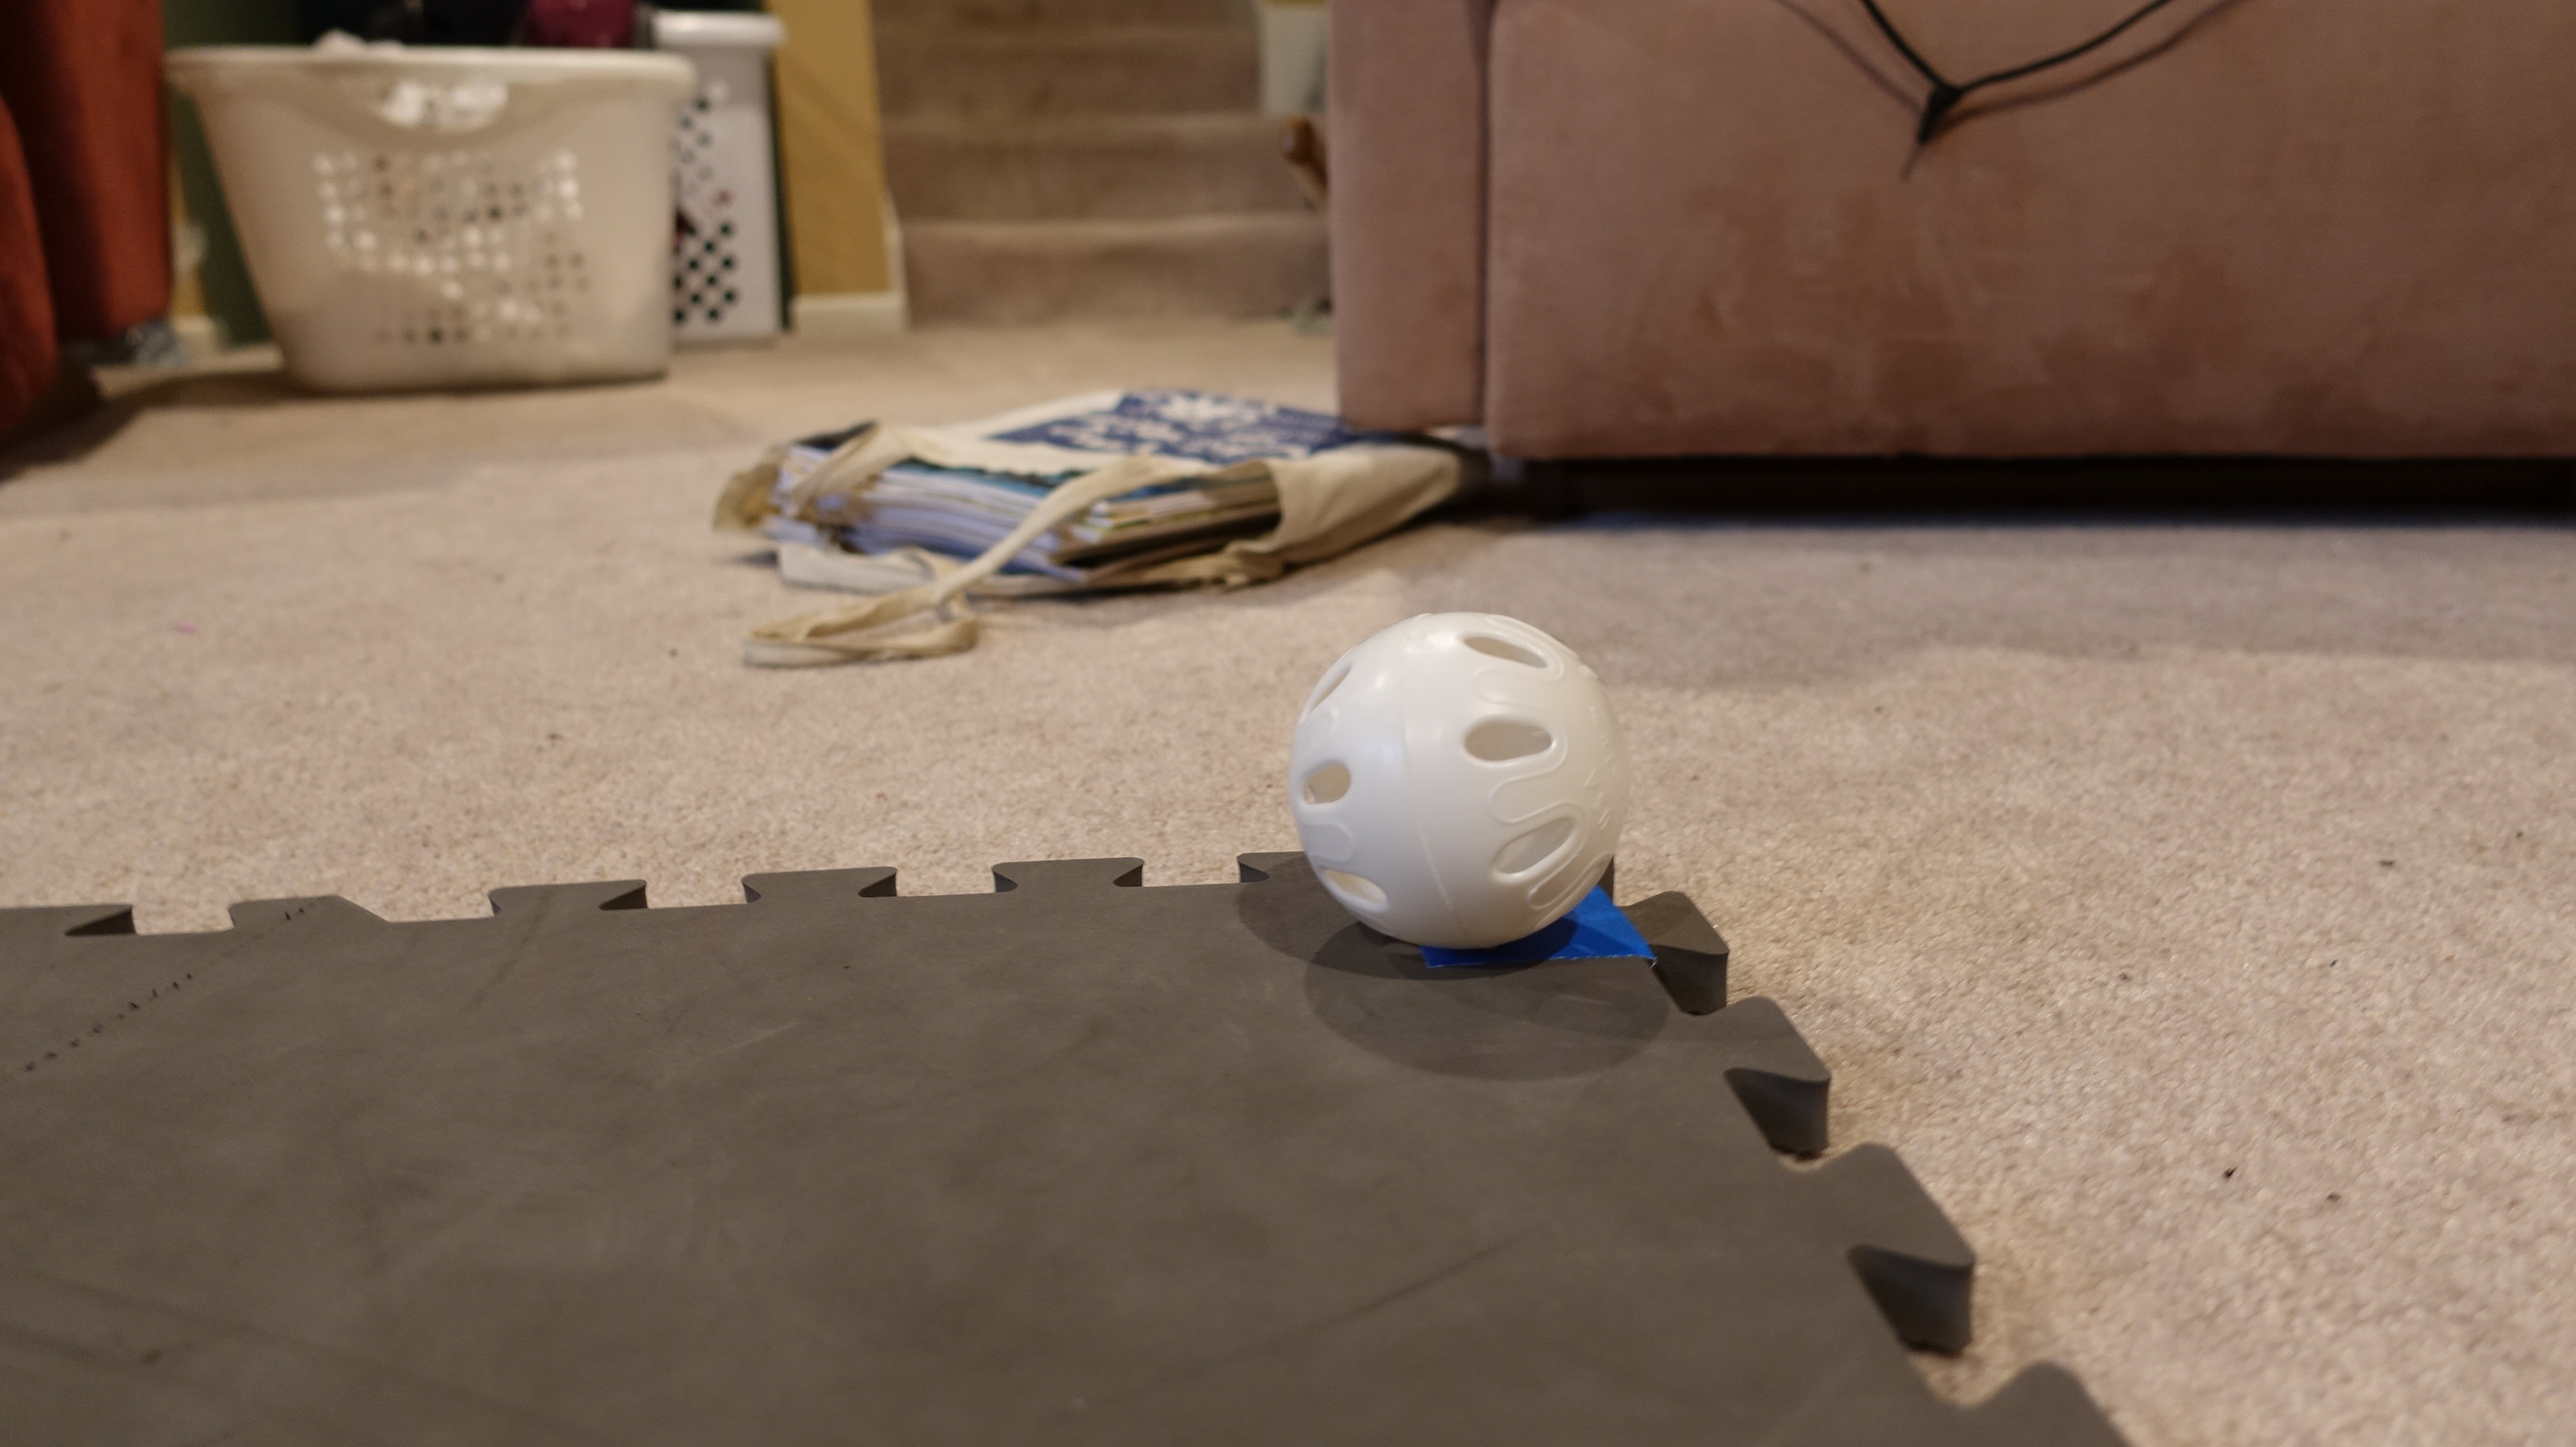silver: (1284, 614, 1626, 952)
